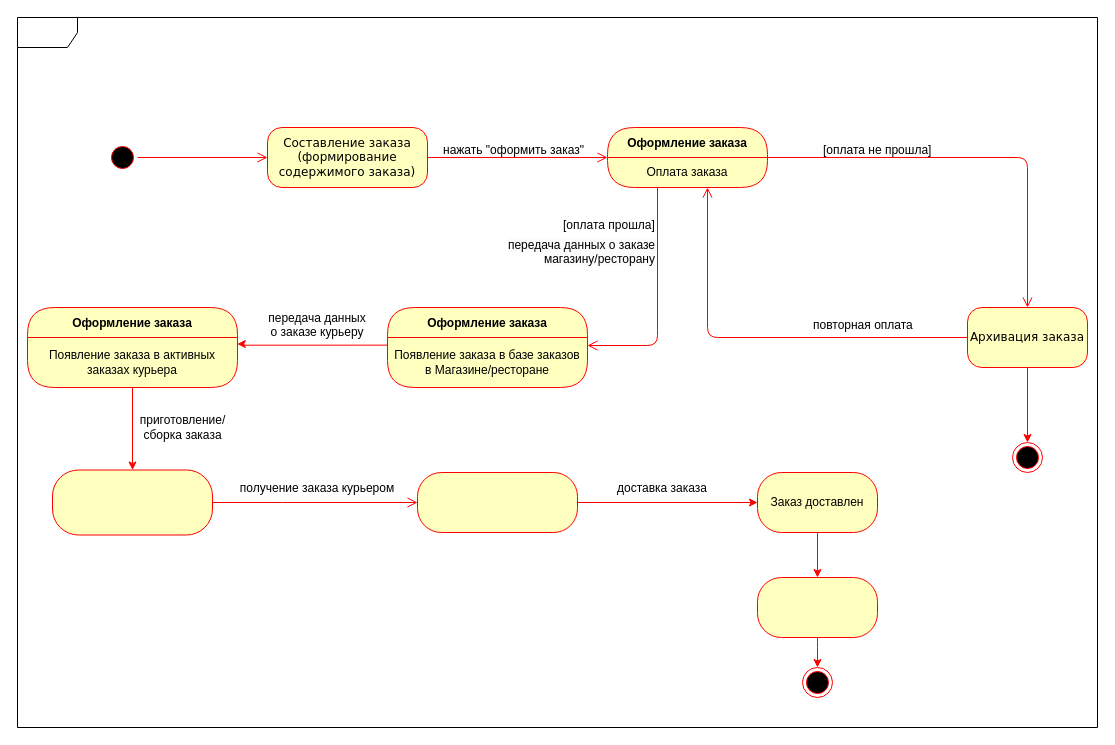
This 1115x745 diagram has some shape labels left out. The shapes that lost their labels are listed below. From the top down, each one's centre as x and y in pixels, then its label:
(132,502): Заказ приготовлен и собран
(497,502): Заказ получен курьером
(817,607): Заказ архивирован
